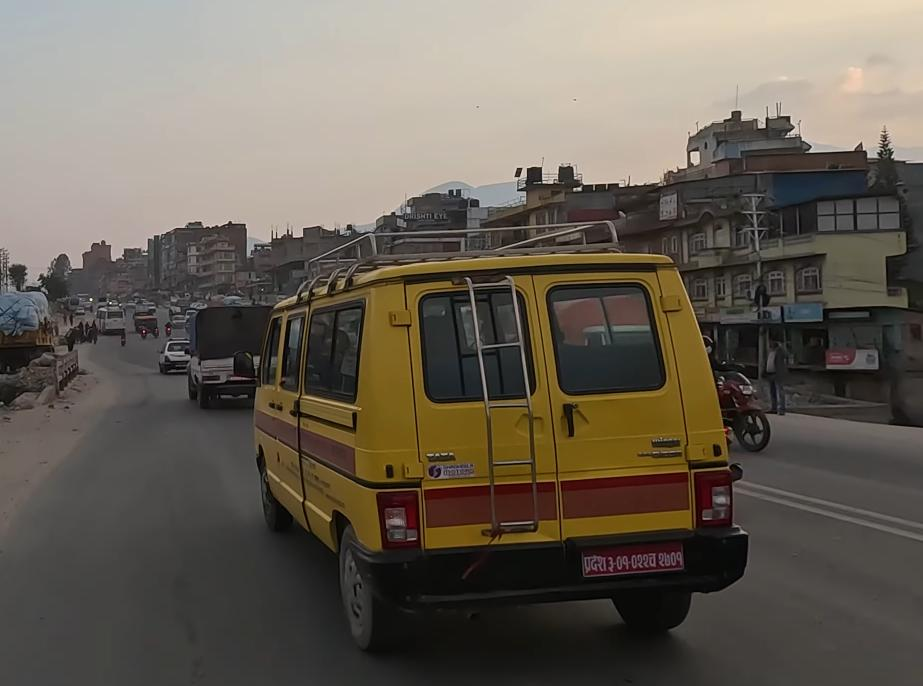bike: (703, 365, 773, 455)
school_bus: (246, 215, 749, 660)
taxi: (156, 335, 196, 374)
transport_vehicle: (184, 300, 272, 405)
